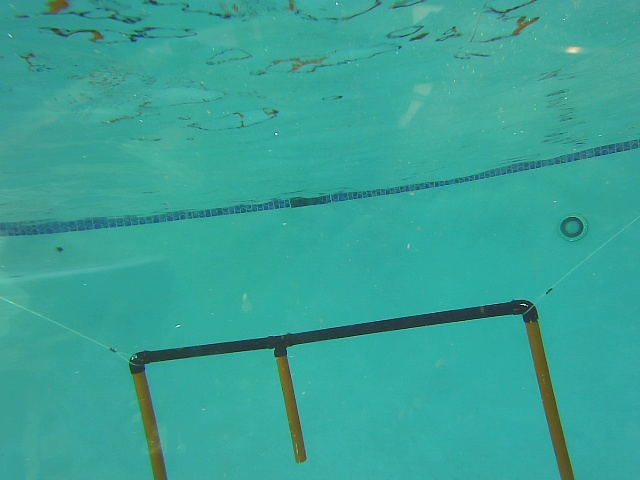Gate: (523, 317, 577, 480), (126, 364, 173, 480), (271, 352, 308, 465)
